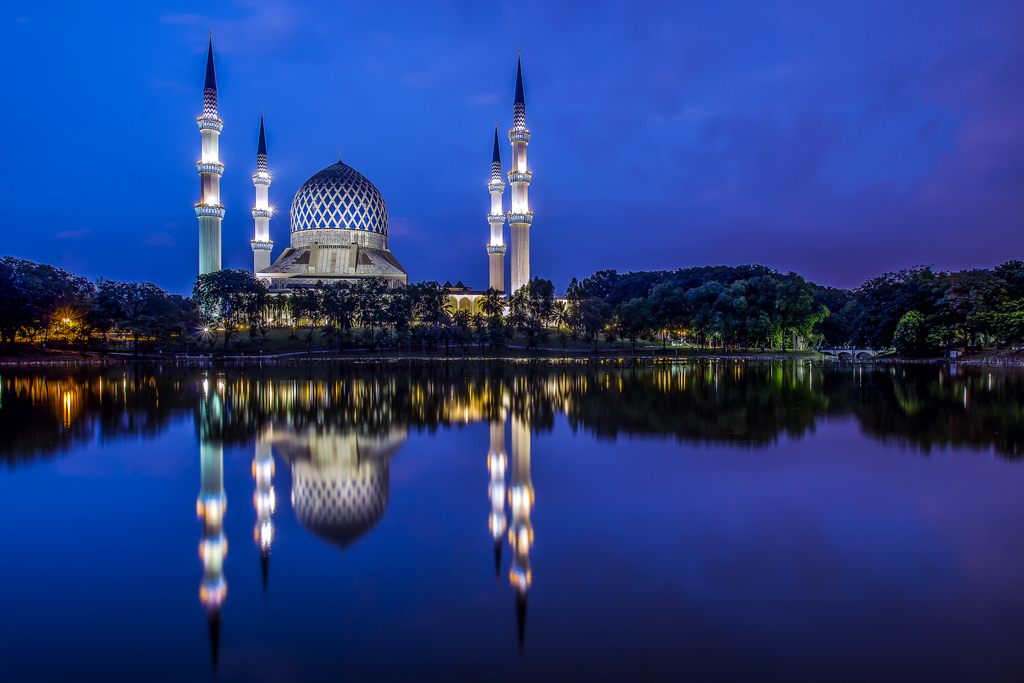Mosque: (180, 34, 542, 305)
